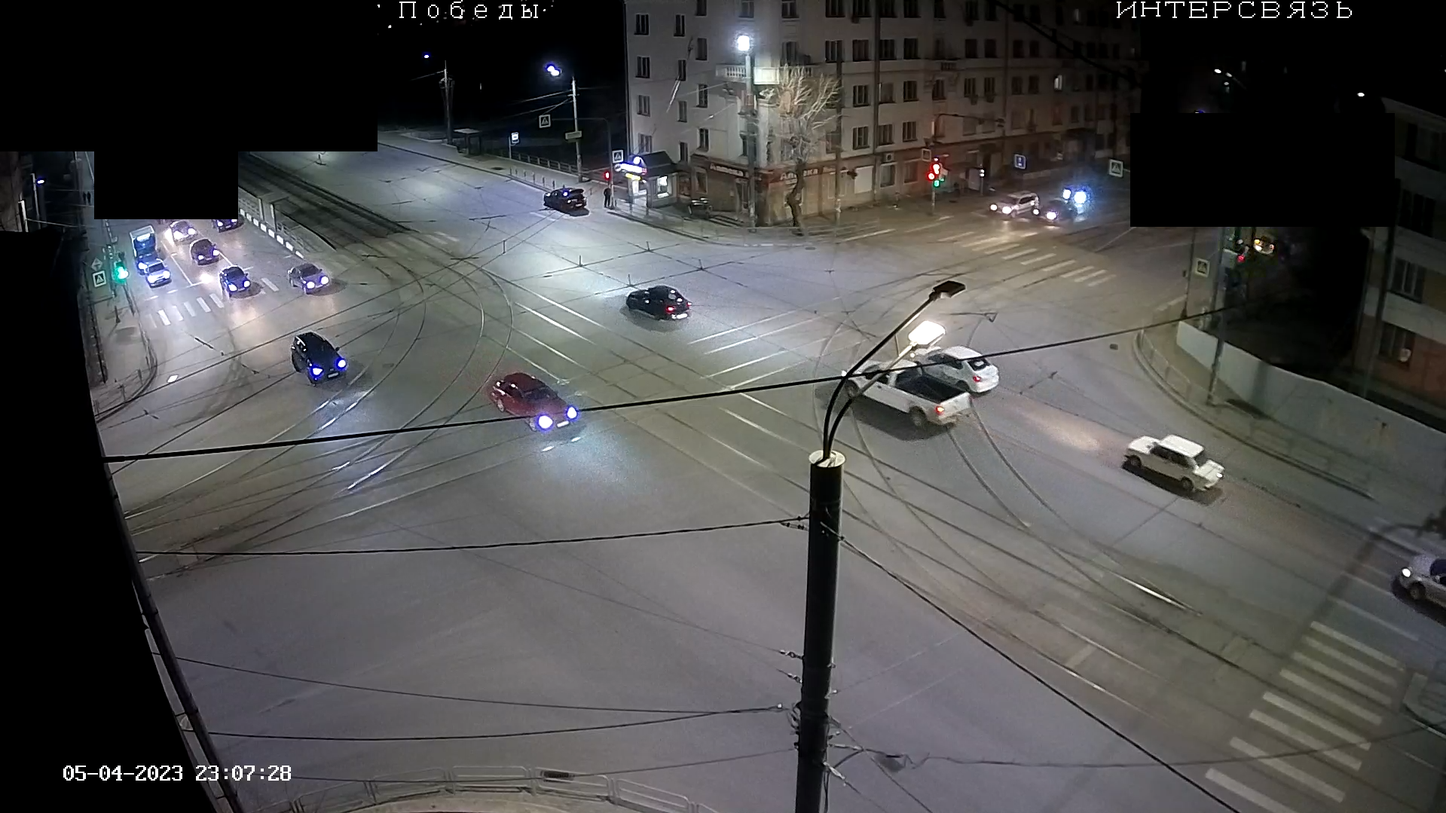car: (842, 361, 971, 429), (1124, 435, 1224, 494), (490, 371, 579, 433), (910, 343, 998, 396), (1398, 551, 1446, 610), (292, 331, 345, 382), (626, 283, 692, 322), (991, 186, 1041, 218), (288, 261, 334, 292), (542, 188, 588, 214), (1037, 197, 1080, 223), (220, 267, 253, 295), (188, 240, 219, 266), (144, 260, 170, 289), (169, 221, 194, 243)
pedestrian: (602, 185, 613, 209)
truck: (128, 225, 164, 277)
